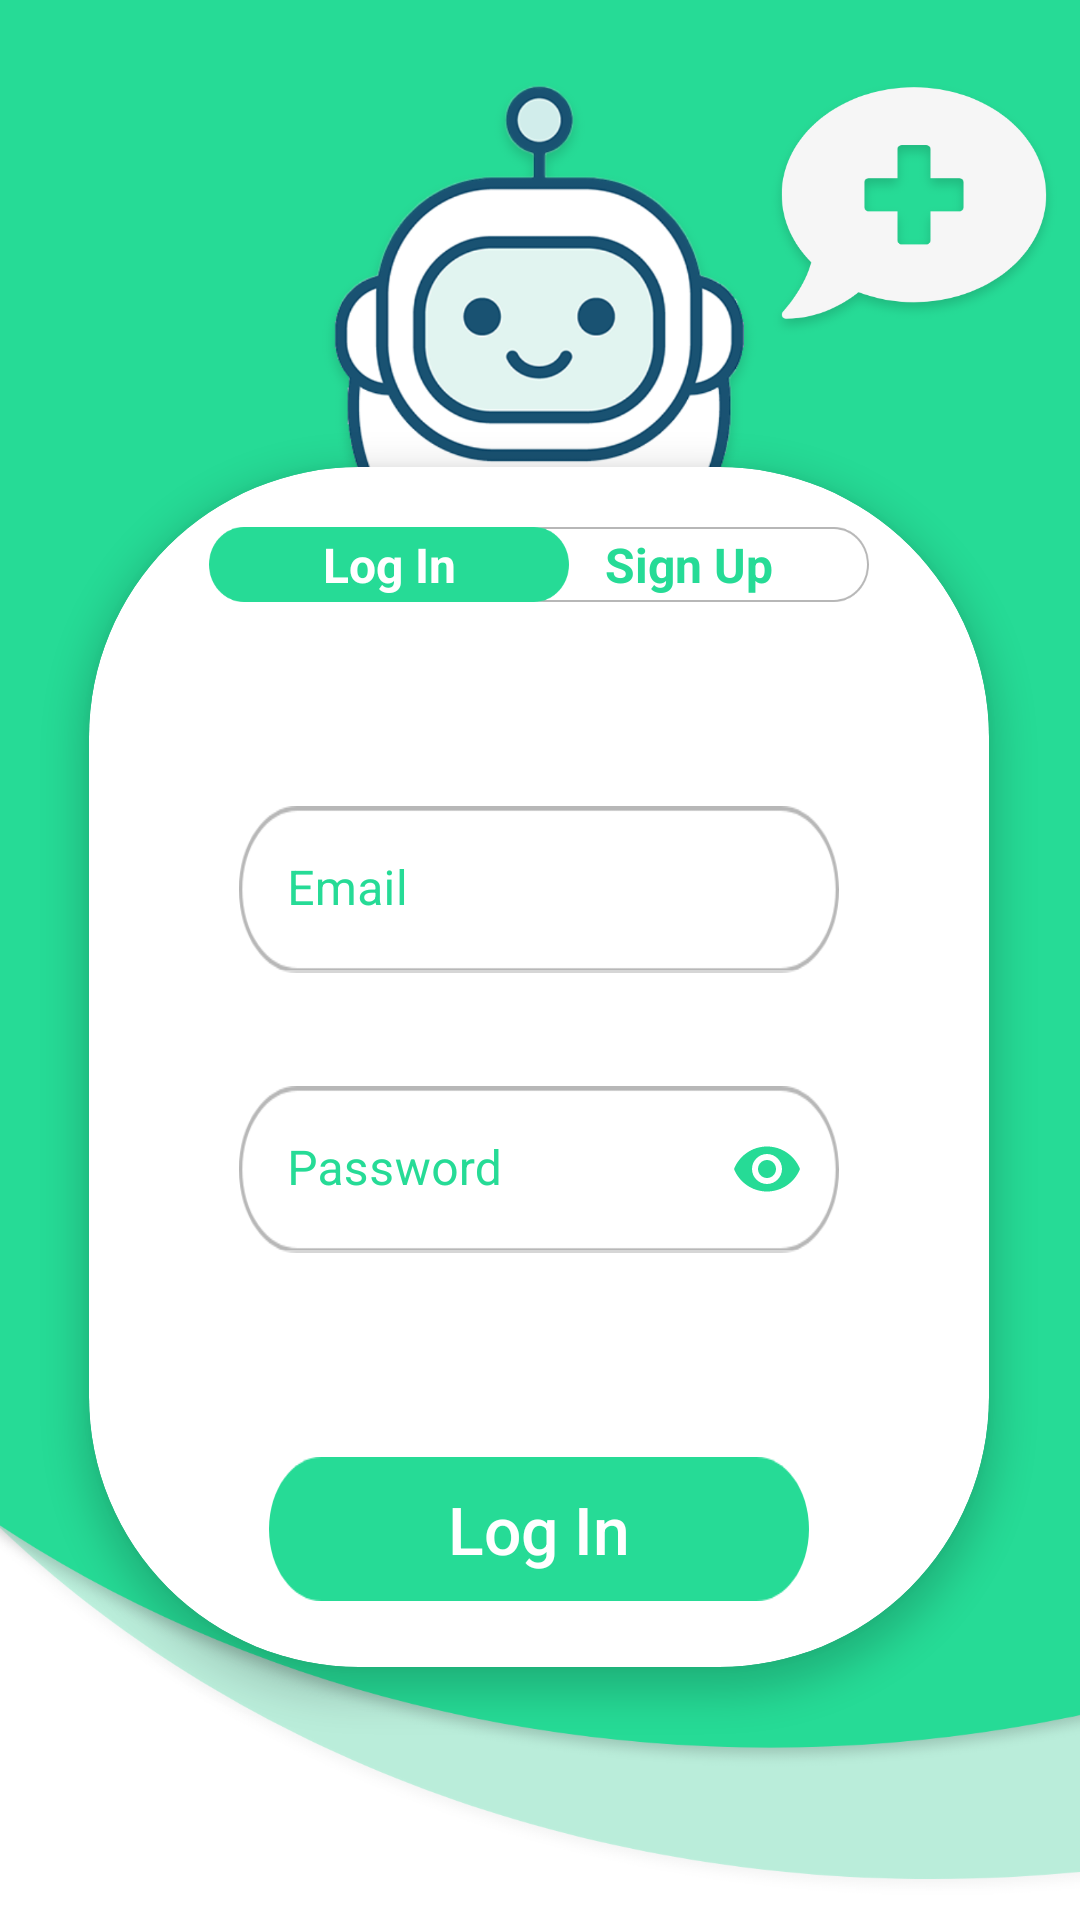

Screen size 1080×1920. Icon name, then its center in pixels as point (x, y):
awesome comment medical: point (914, 204)
